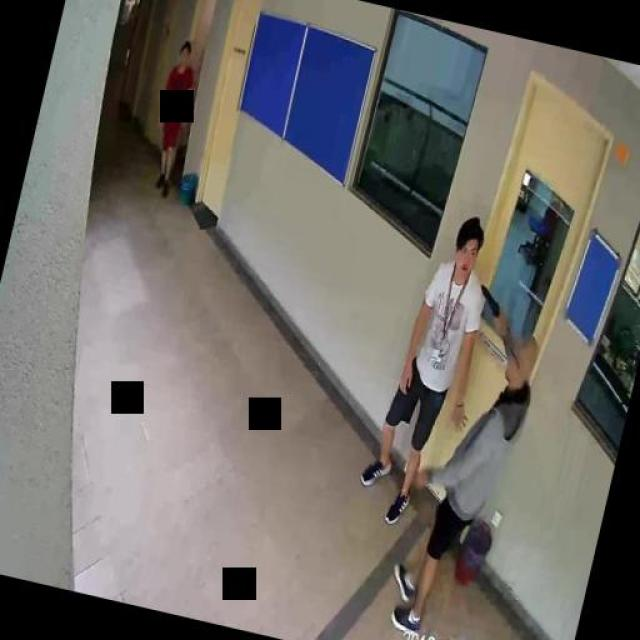gun: (473, 284, 508, 322)
